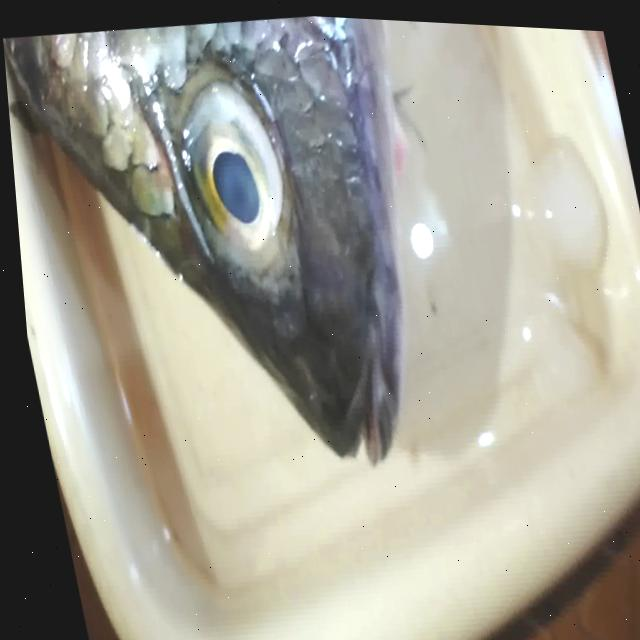Fresh: (144, 38, 311, 282)
